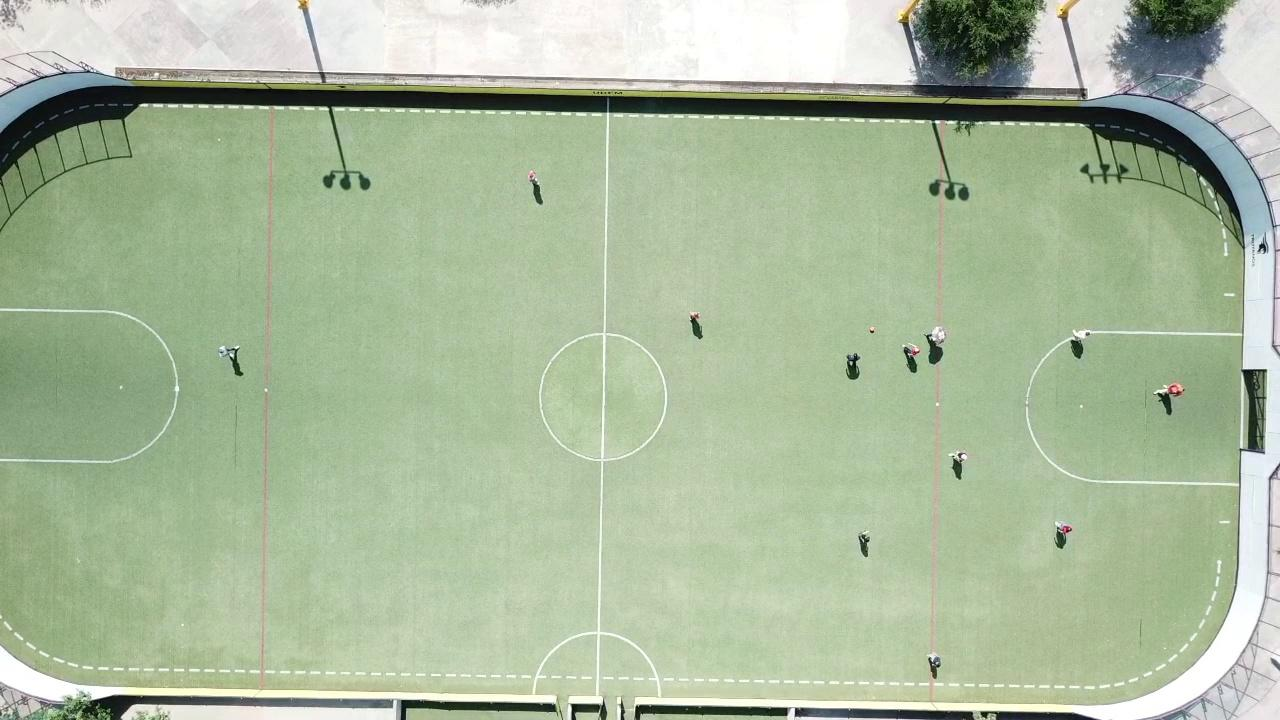ball: (869, 327, 875, 333)
player: (1154, 383, 1186, 400), (926, 326, 946, 346), (220, 345, 240, 362), (1055, 520, 1072, 537), (1071, 329, 1091, 343), (927, 652, 941, 672), (903, 343, 921, 358), (947, 449, 967, 461), (846, 353, 860, 368), (687, 310, 702, 322), (528, 170, 537, 184), (861, 530, 870, 542)
